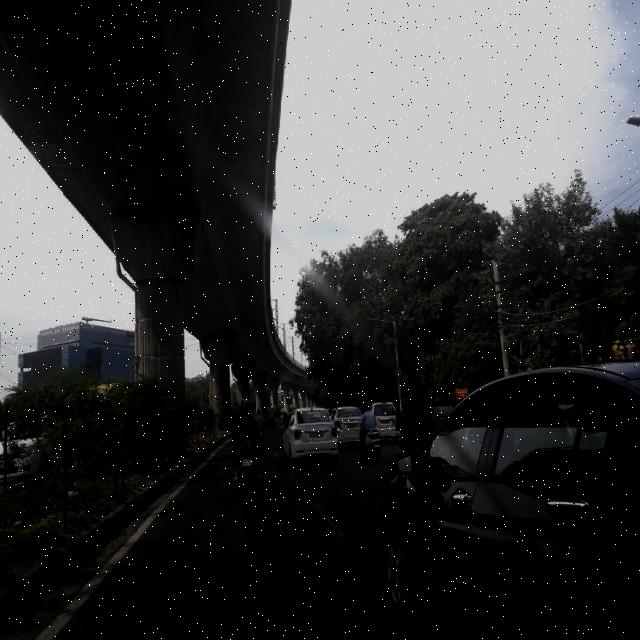D44: (312, 500, 355, 554)
